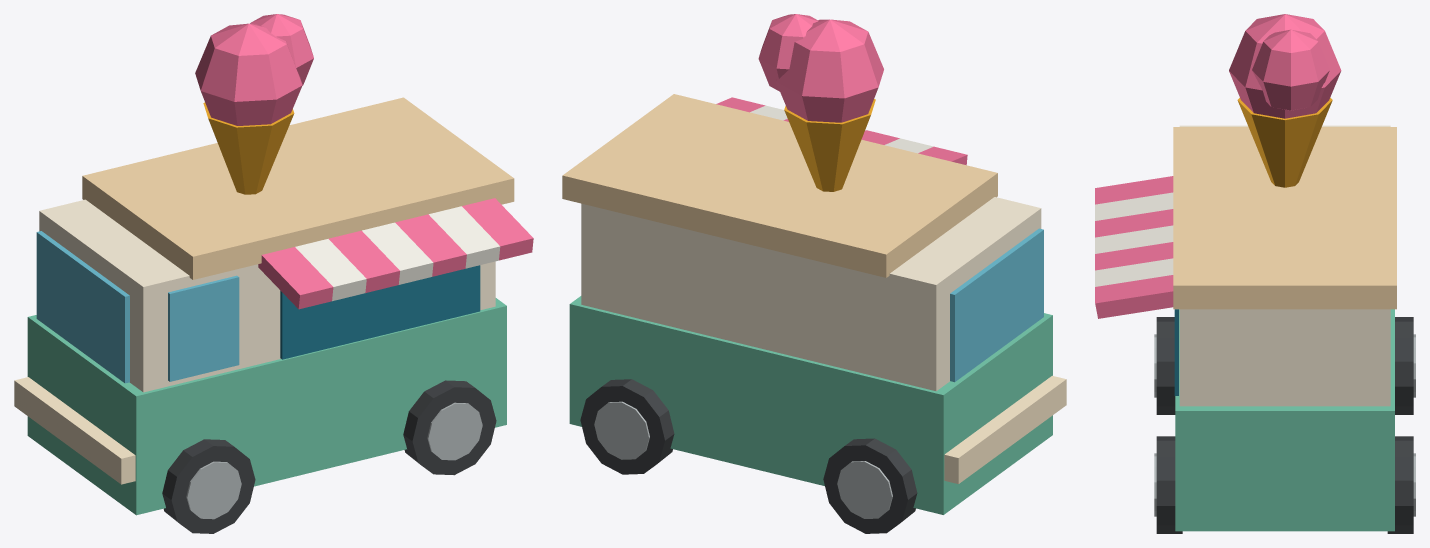
The model's file is Vehicle_Ice_Cream_Van.glb.
The picture shows the model from 3 angles, left to right: view 1: azimuth 30°, elevation 25°; view 2: azimuth 150°, elevation 25°; view 3: azimuth 270°, elevation 25°; orthographic projection.
Parts seen in each view (by area): view 1: Vehicle_Ice_Cream_Van; view 2: Vehicle_Ice_Cream_Van; view 3: Vehicle_Ice_Cream_Van.
Boxes of the visible parts, left/top/right/bottom form: Vehicle_Ice_Cream_Van: left=14, top=14, right=533, bottom=533; Vehicle_Ice_Cream_Van: left=562, top=14, right=1066, bottom=533; Vehicle_Ice_Cream_Van: left=1095, top=14, right=1415, bottom=533.
Bounding box in the file's own units: 3.16 × 3.4 × 2.22.
